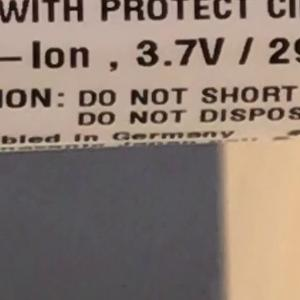keyword: (126, 27, 232, 77)
